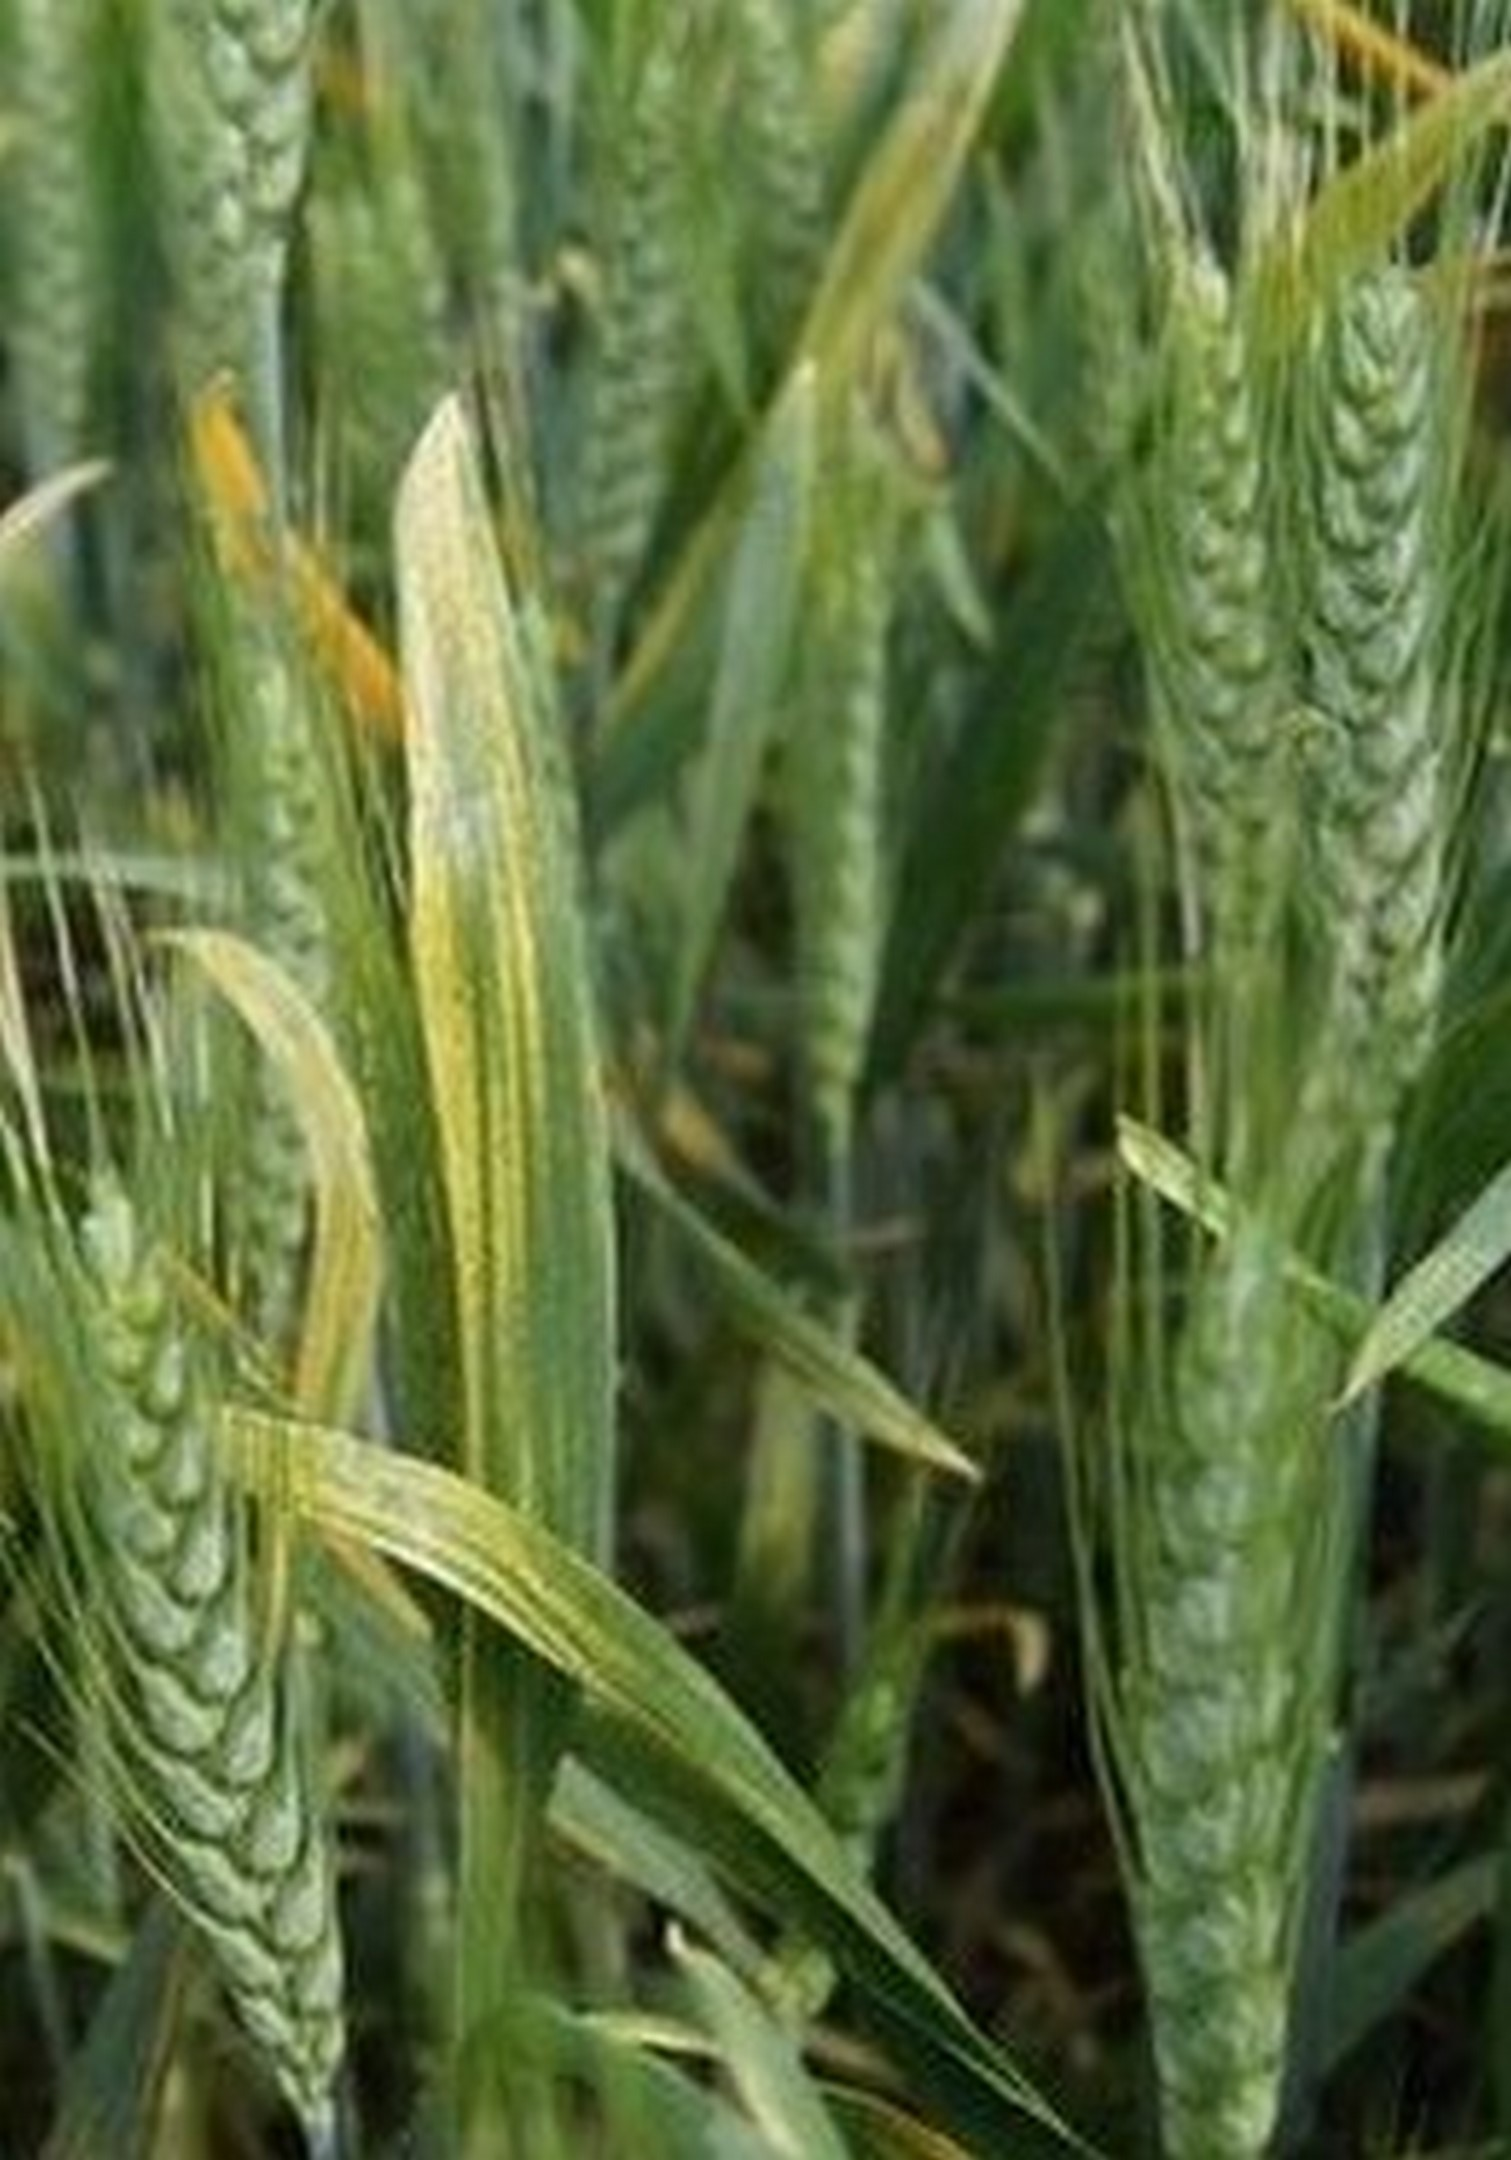Healthy Wheat: (56, 1201, 390, 2066), (1304, 249, 1496, 1105)
